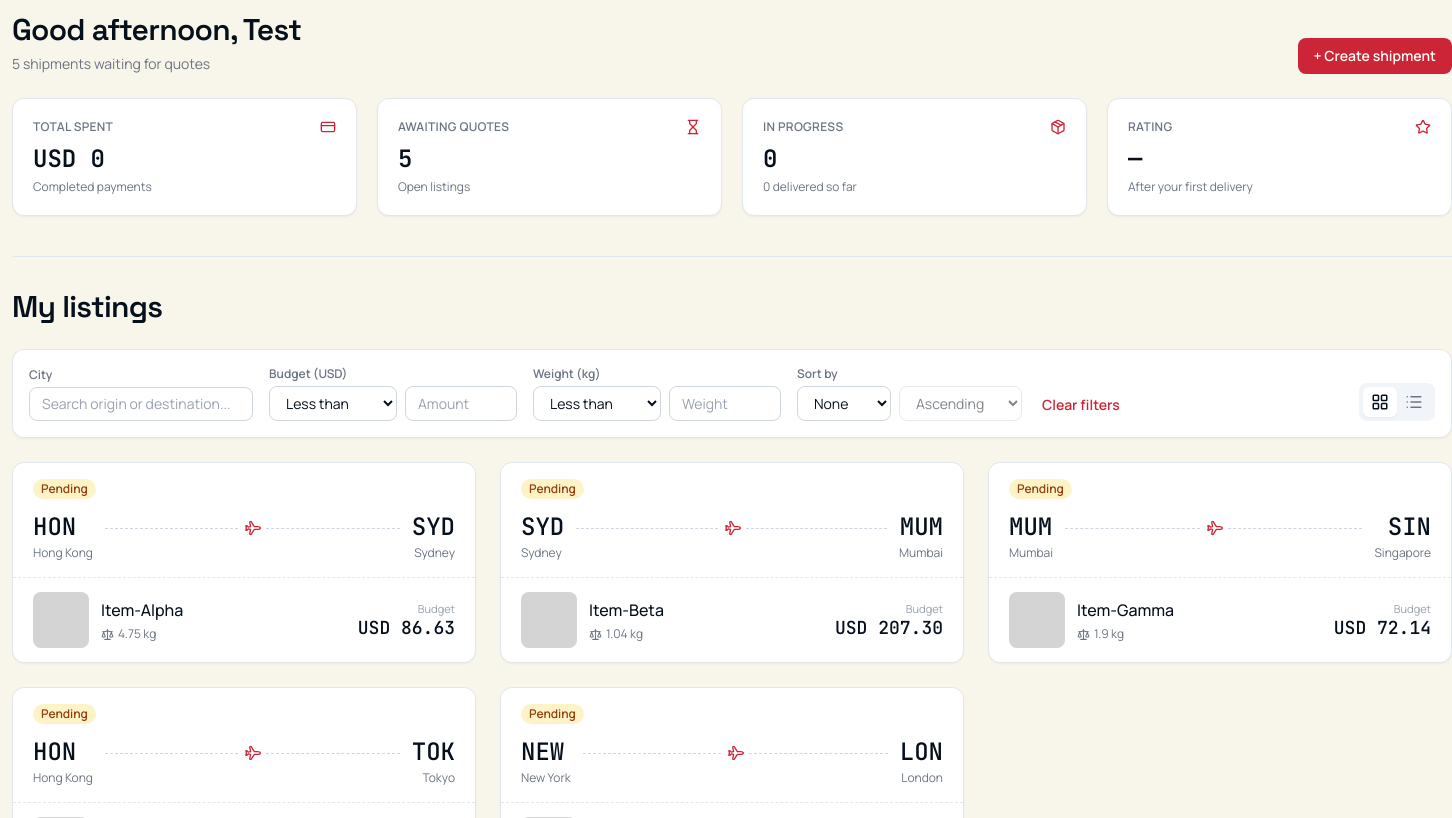
Test case: city filter does a case-insensitive partial match on origin
Expected: the text "Item-Alpha" is shown, [101,599,183,621]
Type "hong" into the field named "City filter" at (141, 404), box [29,387,253,421]
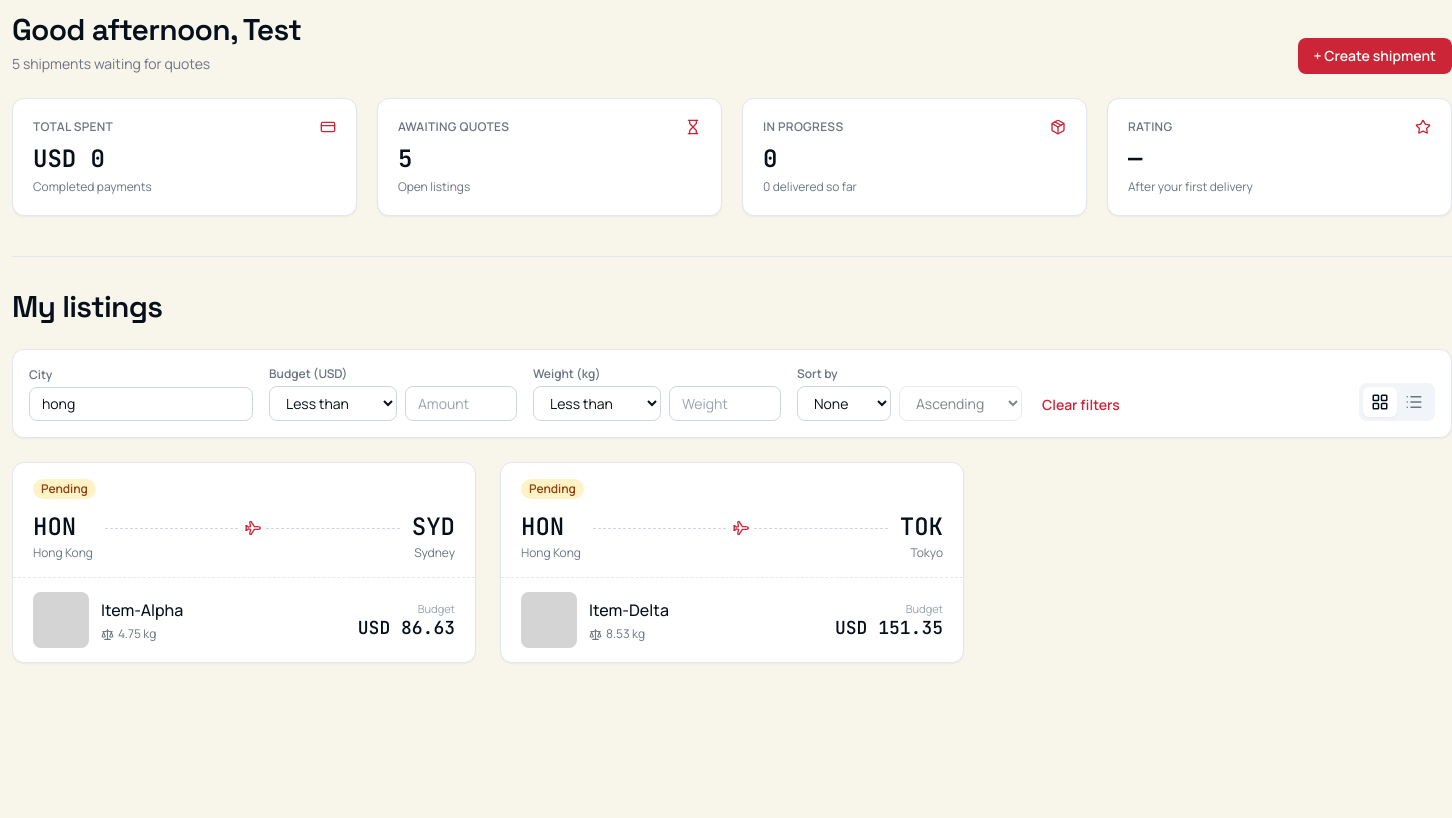
Expected: the text "Item-Alpha" is shown, [101,599,183,621]
Now the link "Item-Beta" is gone
Now the link "Item-Gamma" is gone
